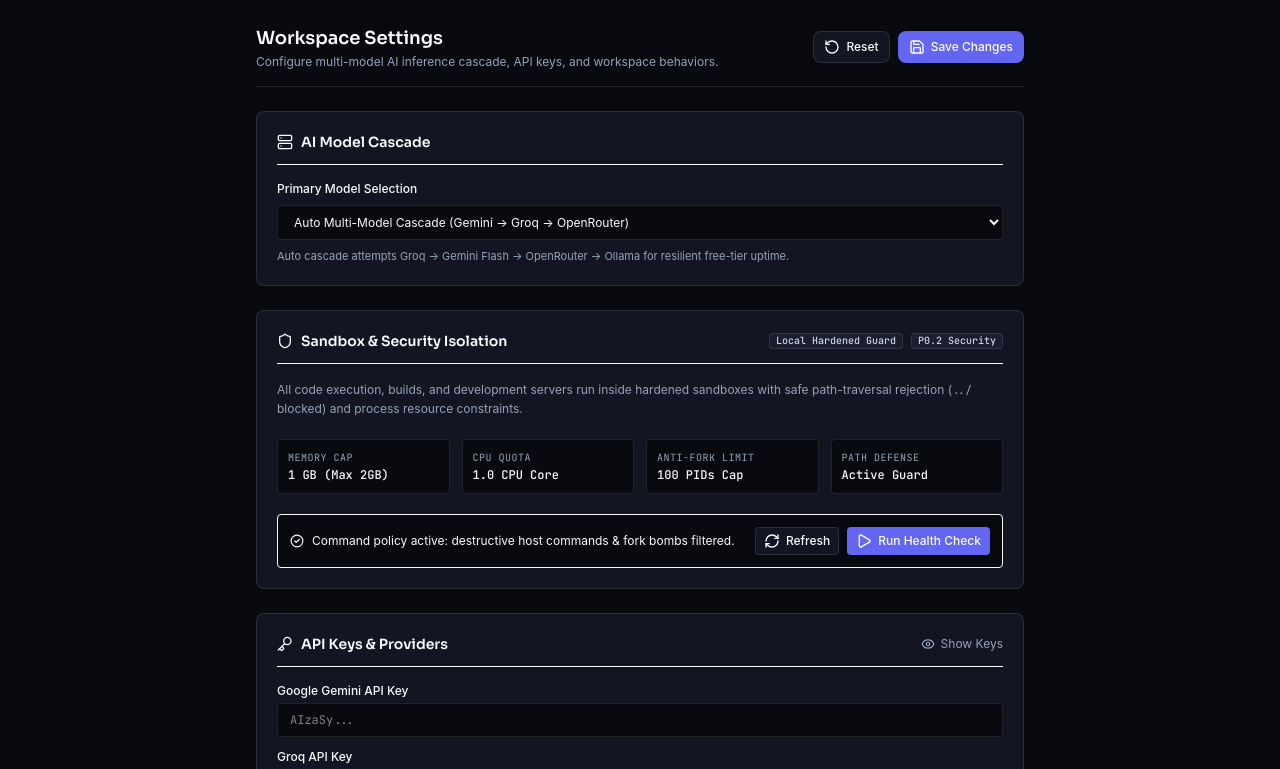
it: Phase F1 — Interaction Foundations Behavioral Tests › GAP-P1-02: Accessible Confirmation Modals › SettingsView replaces window.confirm with accessible reset modal
The width and height of the screenshot is (1280, 769).
Click the button "Reset": (852, 47) [813,31,890,63]
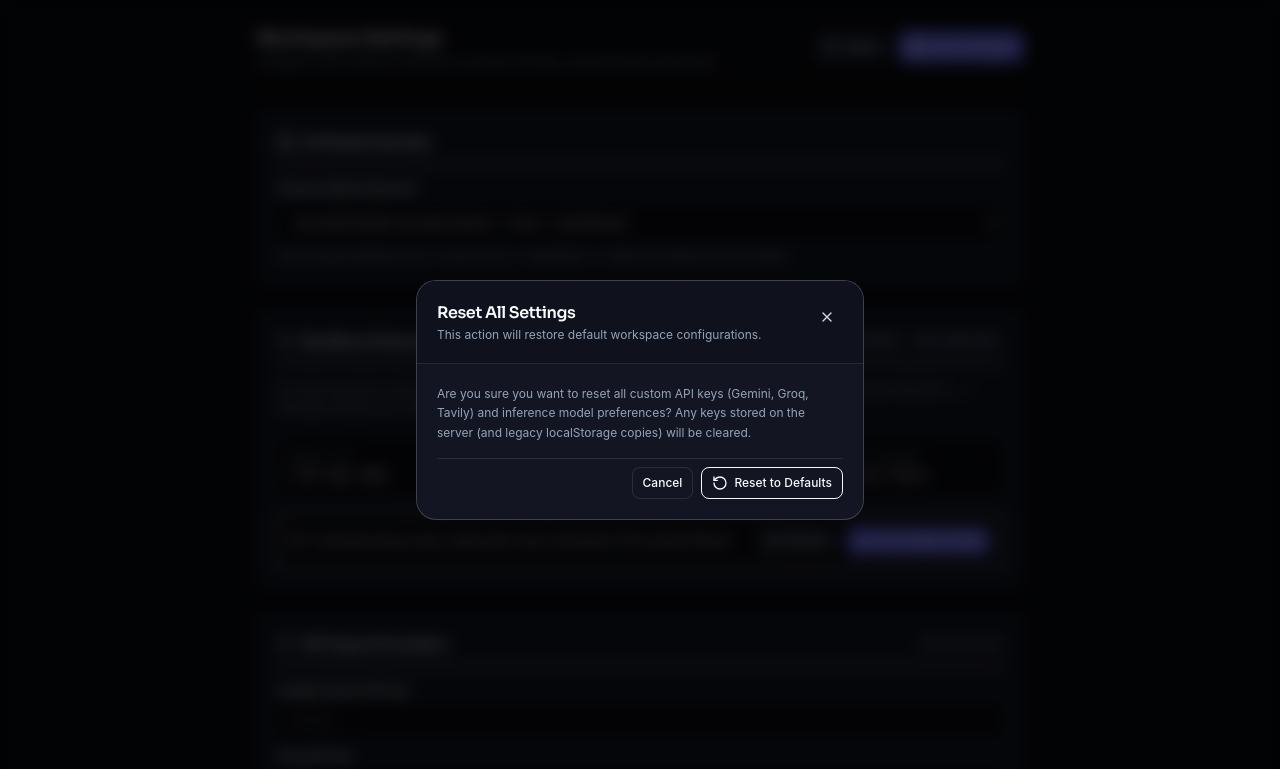
Expected: the heading "Reset All Settings" is shown, [437,302,575,323]
Expected: the text "Are you sure you want to reset all custom API keys" is shown, [437,386,809,440]
Click the button "Reset to Defaults": (772, 483) [701,467,843,499]
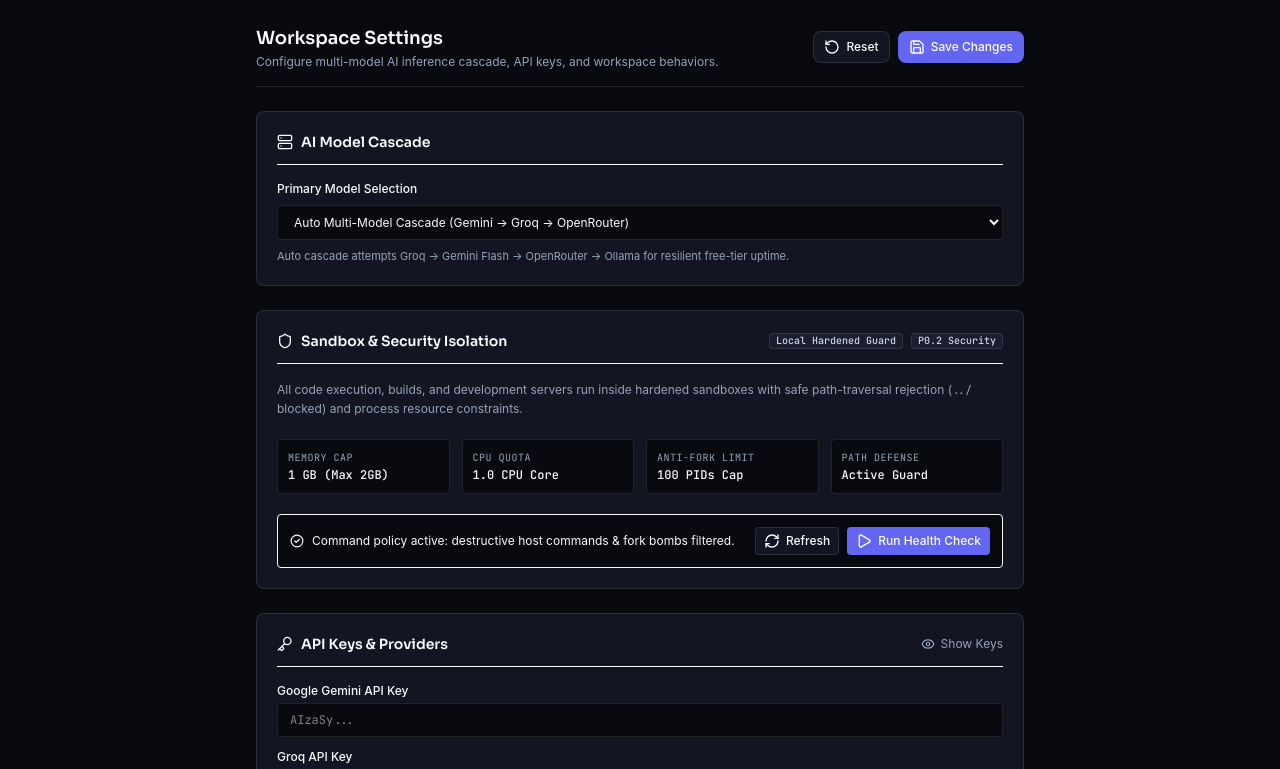
Expected: the heading "Reset All Settings" is gone
